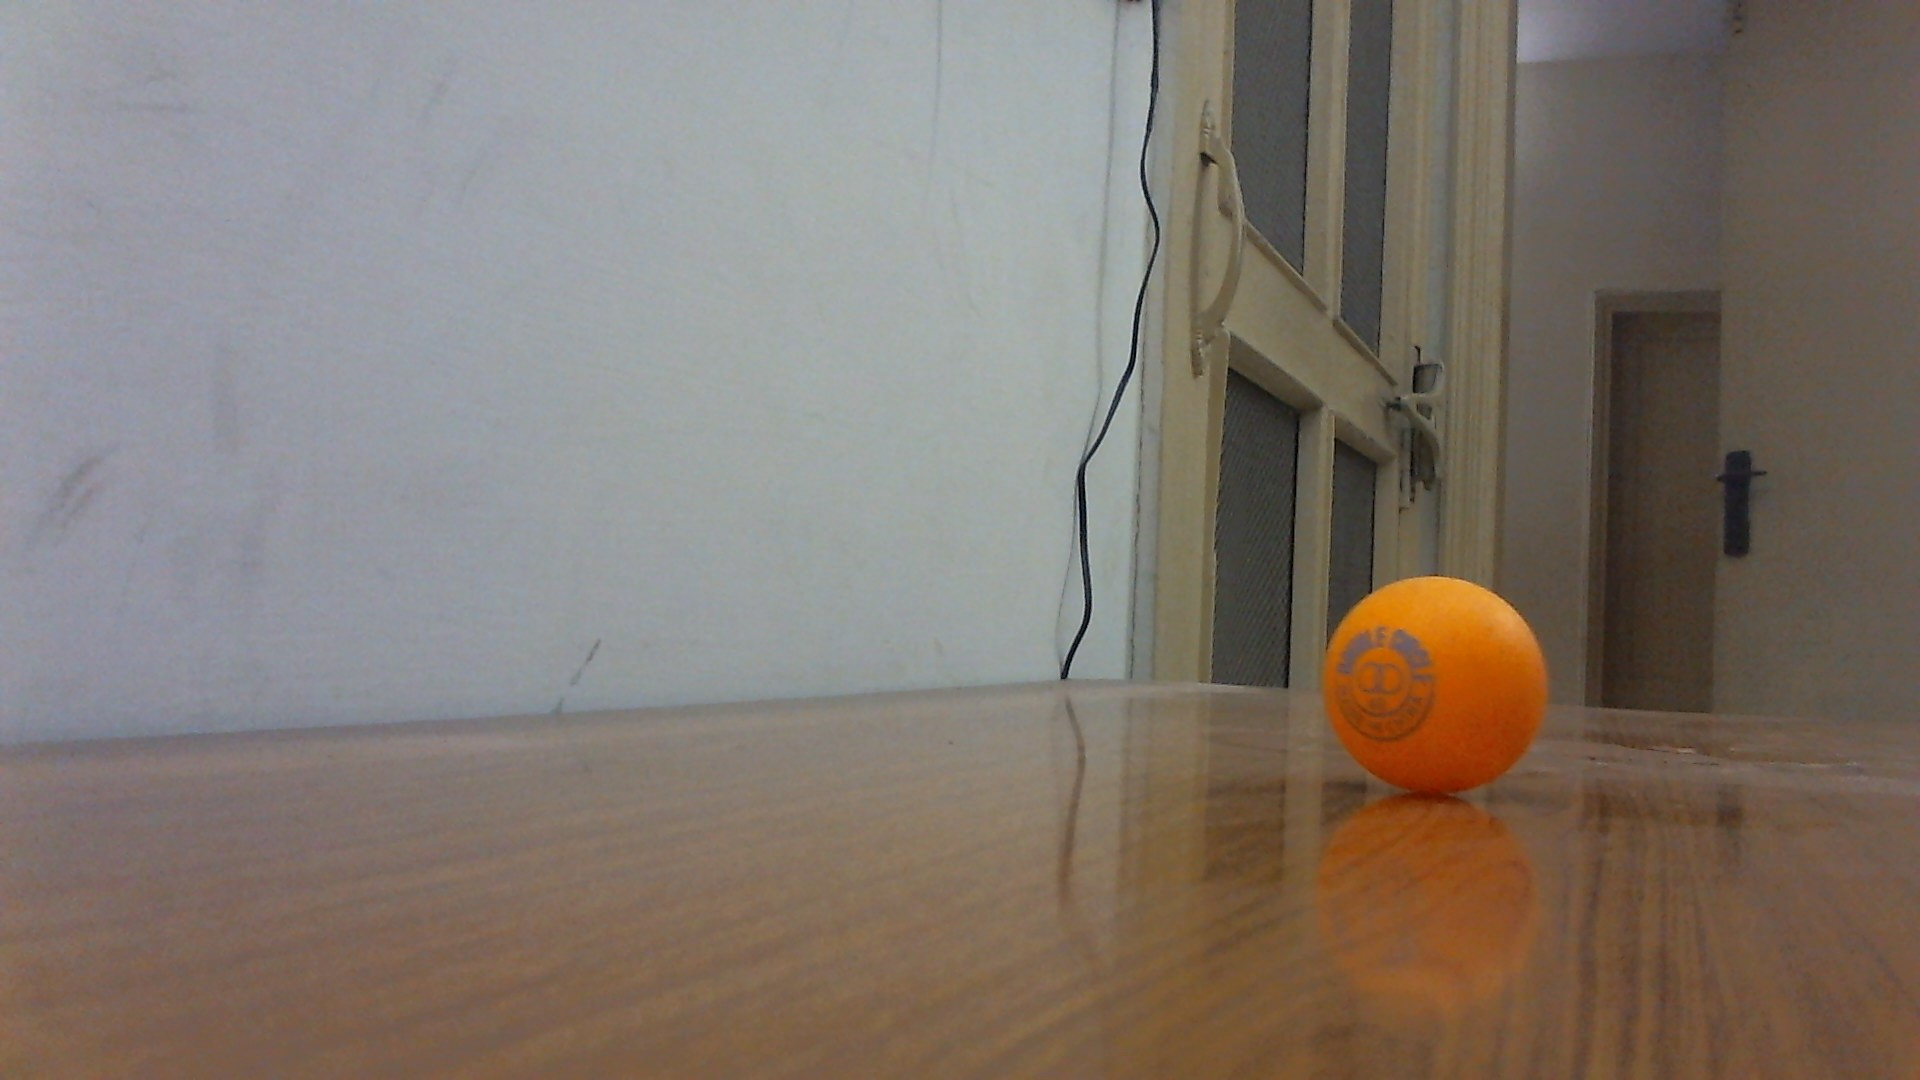ball: (1320, 574, 1548, 800)
